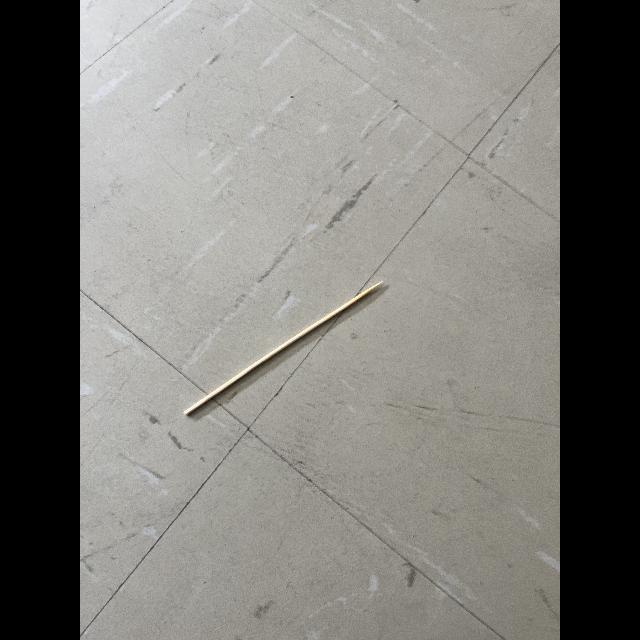stick: (177, 269, 401, 431)
